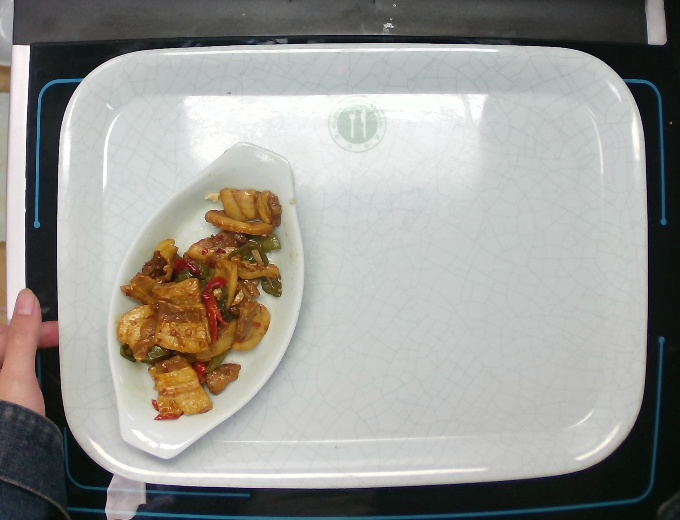JYsf-Yu_Pan: (104, 139, 309, 462)
